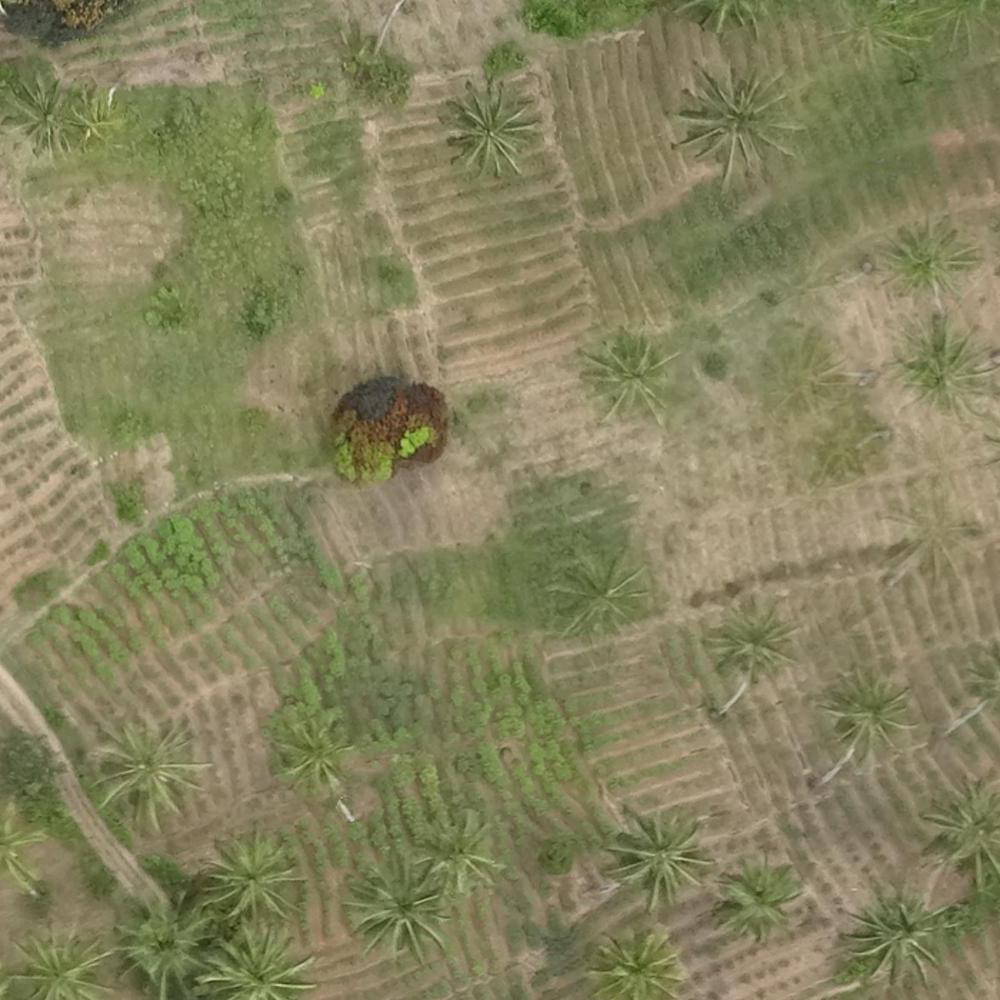Palm: (676, 63, 794, 177), (91, 715, 201, 821), (345, 852, 453, 954), (844, 881, 951, 981), (898, 316, 994, 415), (203, 827, 299, 925), (554, 546, 650, 642), (609, 809, 711, 899), (195, 921, 310, 1000), (116, 892, 210, 988), (816, 662, 911, 754), (440, 80, 534, 172), (4, 925, 117, 1000), (577, 328, 671, 417), (881, 215, 974, 301), (586, 921, 685, 1000), (922, 775, 1000, 870), (701, 601, 792, 682), (710, 855, 804, 933), (417, 813, 499, 892), (7, 71, 79, 157), (270, 718, 346, 793), (68, 88, 120, 146)
